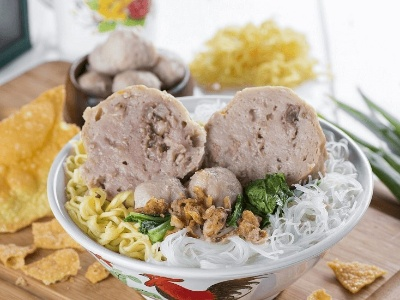bakso: (87, 84, 326, 244)
